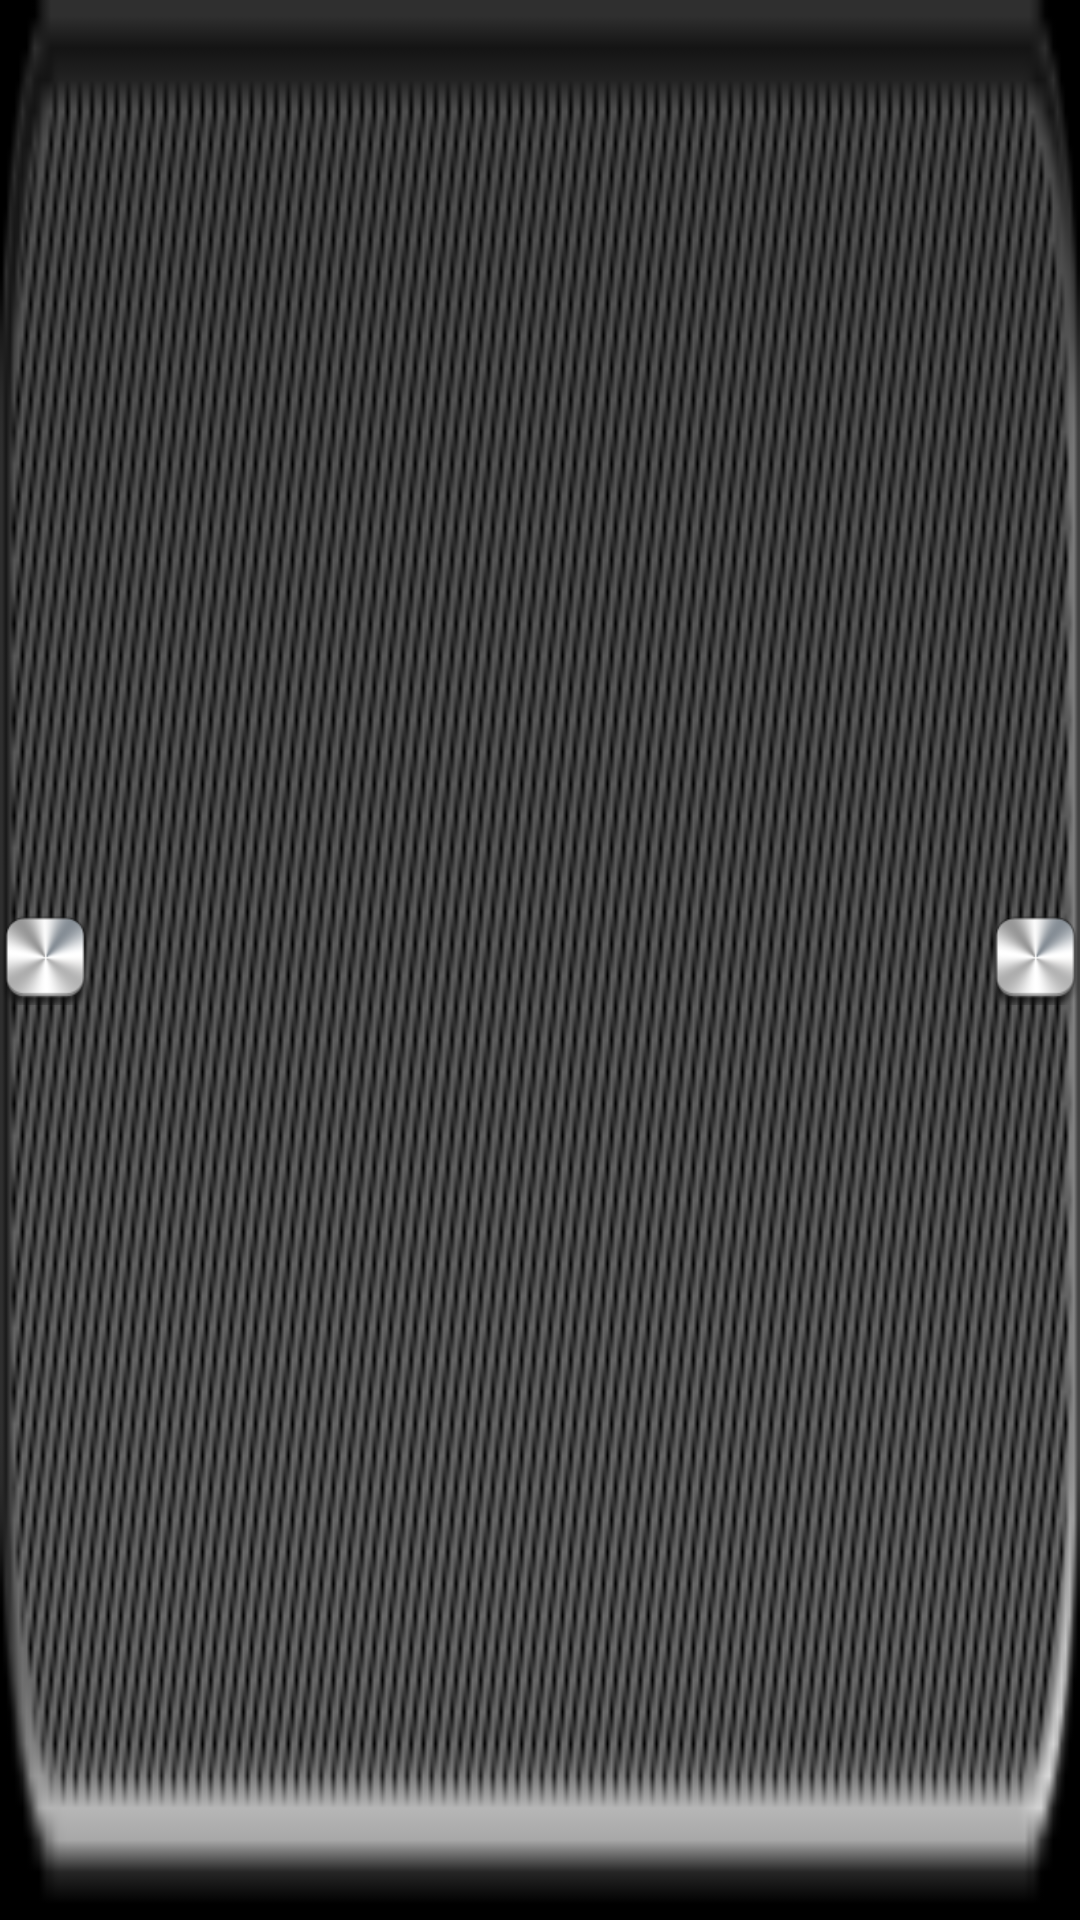

Where to tap for icons on this 1080w x 1920h app screen, as [x,y]:
switch thumb: [45,960], [1035,960]
